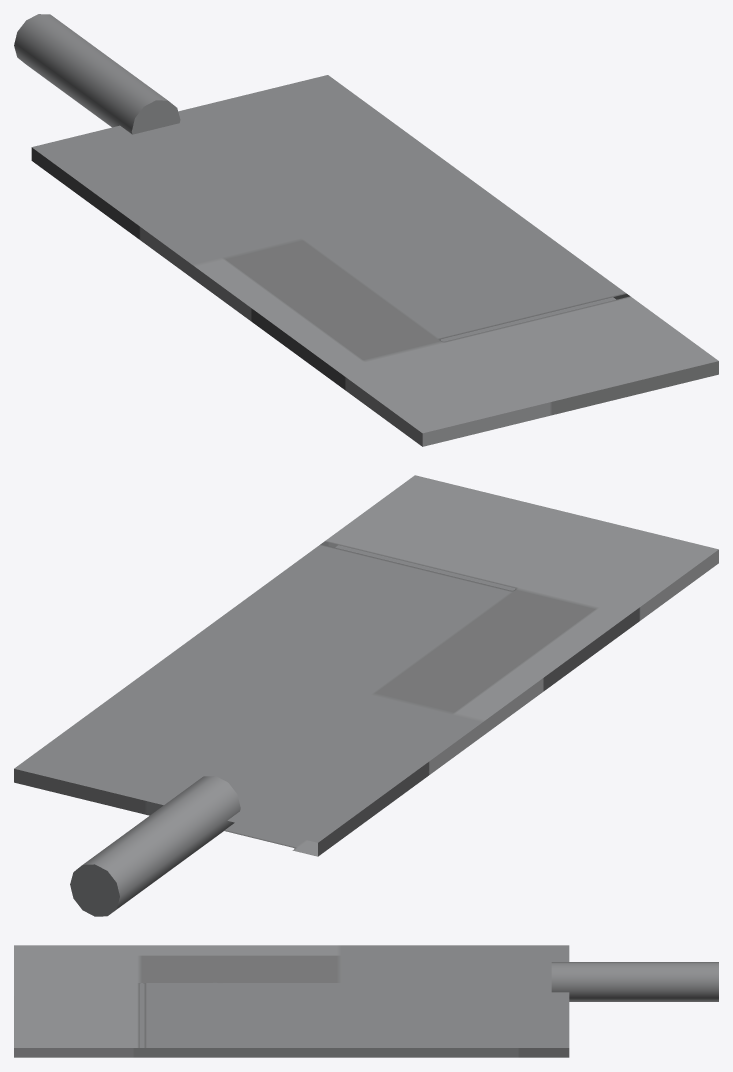
3 renders of one model, top to bottom at view 1: azimuth 30°, elevation 25°; view 2: azimuth 150°, elevation 25°; view 3: azimuth 270°, elevation 25°, orthographic. The views are drawn at different scales.
Bounding box in the file's own units: 0.936 × 0.154 × 2.71.
